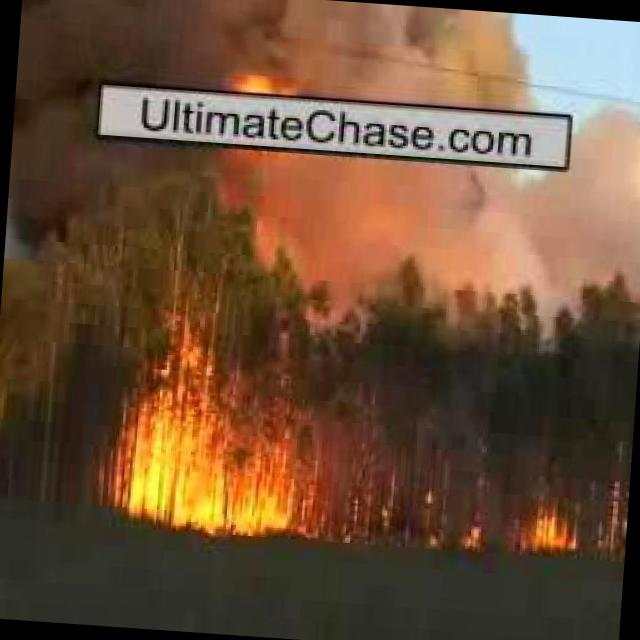Fire: (104, 334, 329, 543), (325, 471, 451, 557), (514, 506, 584, 554), (601, 482, 629, 560), (239, 72, 292, 95), (464, 522, 483, 554)
Smoke: (9, 130, 640, 337), (16, 0, 553, 117)
